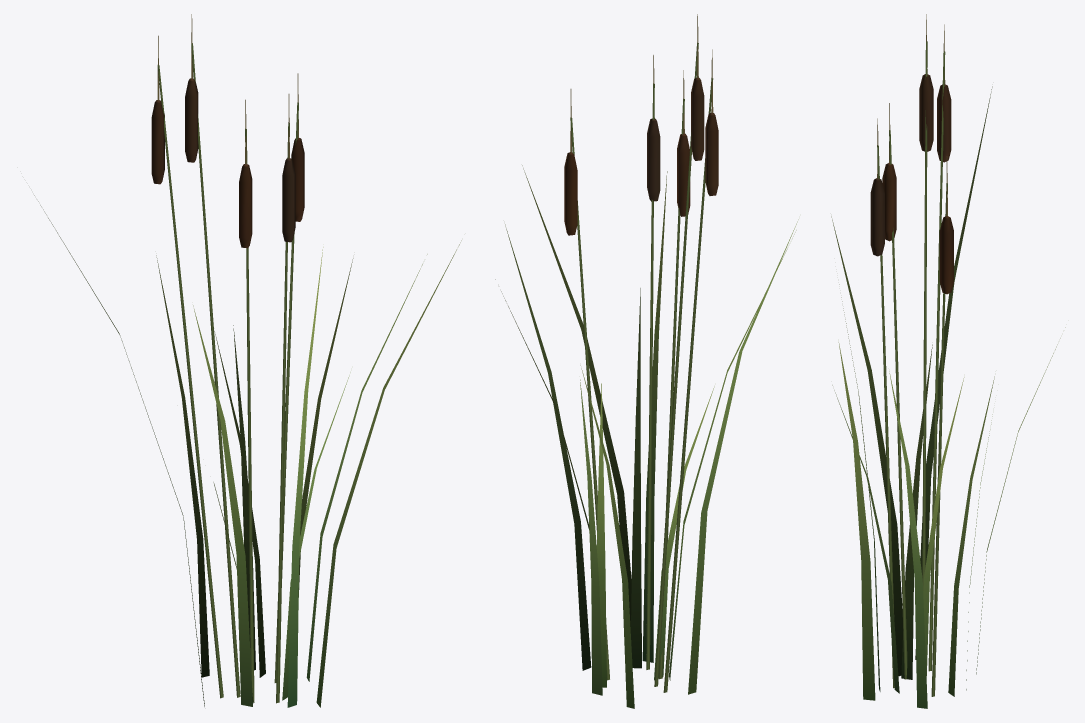
Rendered from reeds-cattail-a.lod1.glb.
3 views of the same model, side by side, from view 1: azimuth 30°, elevation 25°; view 2: azimuth 150°, elevation 25°; view 3: azimuth 270°, elevation 25° (orthographic). The views are drawn at different scales.
Parts seen in each view (by area): view 1: reeds-cattail-a.lod1; view 2: reeds-cattail-a.lod1; view 3: reeds-cattail-a.lod1.
Part boxes in pixels (x1,y1,x2,y2): reeds-cattail-a.lod1: (34, 14, 461, 707); reeds-cattail-a.lod1: (495, 14, 798, 708); reeds-cattail-a.lod1: (831, 14, 1065, 708).
Bounding box in the file's own units: 1.05 × 1.89 × 0.6406.
